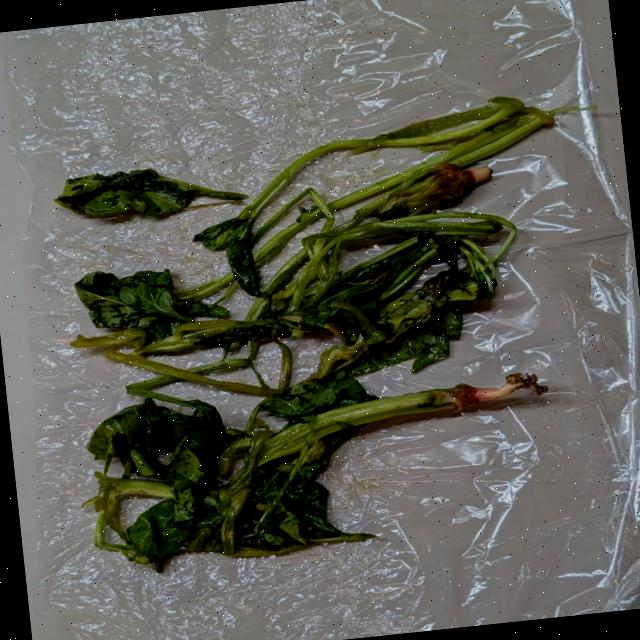rotten spinach: (27, 56, 621, 612), (26, 344, 576, 602), (51, 212, 552, 422), (27, 82, 520, 280)
